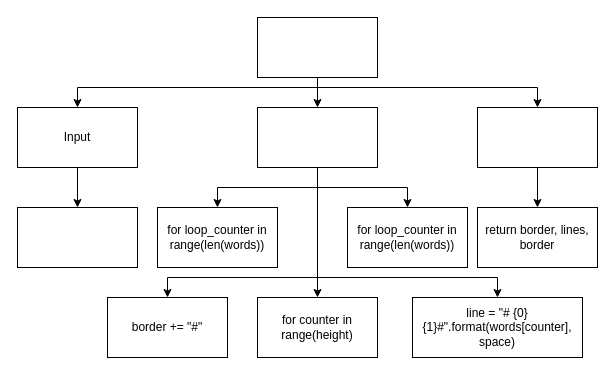
The diagram is 615 pixels wide and 375 high, and some of its shapes have lost their labels. The centre of each missing label's shape, as x and y in pixels:
Frame Quote: the point at 317,47
get words: the point at 77,237
Output: the point at 537,137
Process: the point at 317,137
